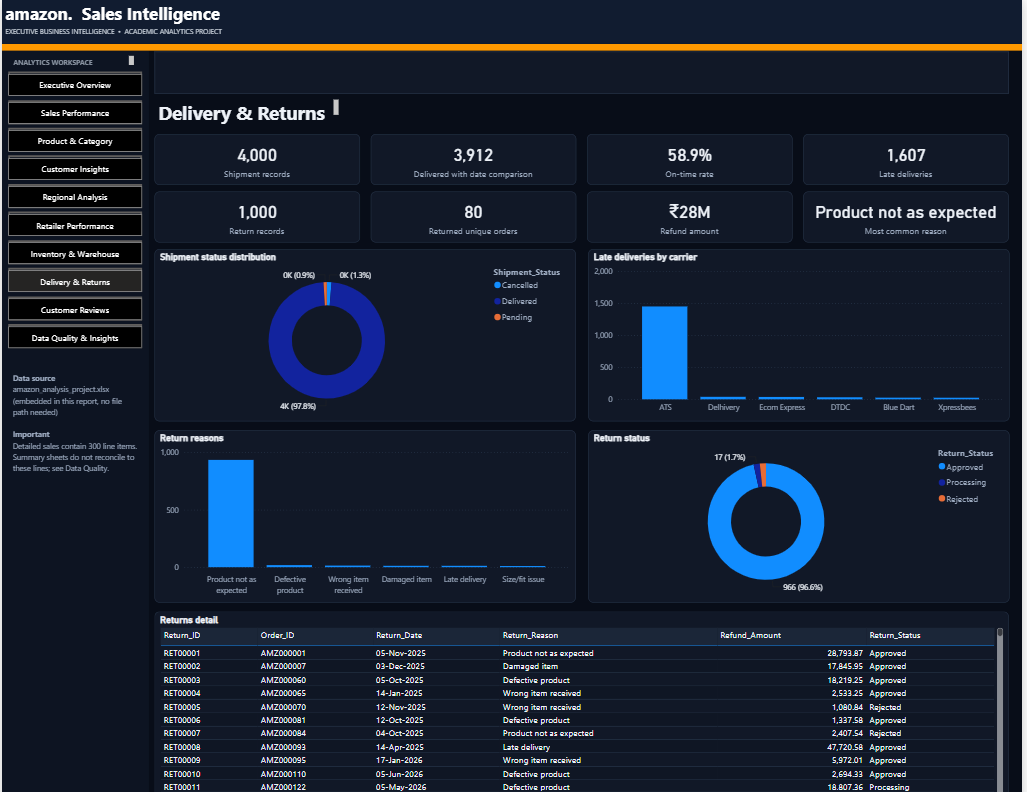

The page's visual inventory and layout, read from the dashboard file:
{"tool":"powerbi","page":{"name":"Delivery & Returns","canvas":[1600,1300],"ordinal":7},"visuals":[{"type":"textbox","box":[0,70,230,1230],"z":0},{"type":"textbox","box":[0,0,1600,70],"z":1000},{"type":"textbox","box":[0,70,1600,4],"z":2000},{"type":"textbox","box":[12,84,200,24],"z":3000},{"type":"actionButton","box":[10,114,210,38],"z":4000},{"type":"actionButton","box":[10,158,210,38],"z":5000},{"type":"actionButton","box":[10,202,210,38],"z":6000},{"type":"actionButton","box":[10,246,210,38],"z":7000},{"type":"actionButton","box":[10,290,210,38],"z":8000},{"type":"actionButton","box":[10,334,210,38],"z":9000},{"type":"actionButton","box":[10,378,210,38],"z":10000},{"type":"actionButton","box":[10,422,210,38],"z":11000},{"type":"actionButton","box":[10,466,210,38],"z":12000},{"type":"actionButton","box":[10,510,210,38],"z":13000},{"type":"textbox","box":[12,580,206,250],"z":14000},{"type":"textbox","box":[240,82,1340,66],"z":15000},{"type":"textbox","box":[239.9,153.5,293.5,52.2],"z":17000},{"type":"card","fields":{"Values":["_Measures.Shipment Records"]},"box":[240,212,322,80],"z":18000},{"type":"card","fields":{"Values":["_Measures.Delivered with Dates"]},"box":[579,212,322,80],"z":19000},{"type":"card","fields":{"Values":["_Measures.On-Time Rate"]},"box":[918,212,322,80],"z":20000},{"type":"card","fields":{"Values":["_Measures.Late Deliveries"]},"box":[1257,212,322,80],"z":21000},{"type":"card","fields":{"Values":["_Measures.Return Records"]},"box":[240,302,322,80],"z":22000},{"type":"card","fields":{"Values":["_Measures.Returned Orders"]},"box":[579,302,322,80],"z":23000},{"type":"card","fields":{"Values":["_Measures.Refund Amount"]},"box":[918,302,322,80],"z":24000},{"type":"card","fields":{"Values":["_Measures.Top Return Reason"]},"box":[1257,302,322,80],"z":25000},{"type":"donutChart","title":"Shipment status distribution","fields":{"Category":["Shipments.Shipment_Status"],"Y":["_Measures.Shipment Records"]},"box":[240,392,661,270],"z":26000},{"type":"clusteredColumnChart","title":"Late deliveries by carrier","fields":{"Category":["Shipments.Carrier"],"Y":["_Measures.Late Deliveries"]},"box":[919,392,661,270],"z":27000},{"type":"clusteredColumnChart","title":"Return reasons","fields":{"Category":["Returns.Return_Reason"],"Y":["_Measures.Return Records"]},"box":[240,676,661,270],"z":28000},{"type":"donutChart","title":"Return status","fields":{"Category":["Returns.Return_Status"],"Y":["_Measures.Return Records"]},"box":[919,676,661,270],"z":29000},{"type":"tableEx","title":"Returns detail","fields":{"Values":["Returns.Return_ID","Returns.Order_ID","Returns.Return_Date","Returns.Return_Reason","Returns.Refund_Amount","Returns.Return_Status"]},"box":[240,960,1340,330],"z":30000},{"type":"pageNavigator","box":[10,118,210,430],"z":31000}]}

Visuals, with their boxes on the page's 1600x1300 design canvas (x1, y1, x2, y2). These are canvas units, not pixel positions in the 1027x792 screenshot, which may show the page scaled, cropped or inside an application window:
textbox: locate(0, 70, 230, 1300)
textbox: locate(0, 0, 1600, 70)
textbox: locate(0, 70, 1600, 74)
textbox: locate(12, 84, 212, 108)
actionButton: locate(10, 114, 220, 152)
actionButton: locate(10, 158, 220, 196)
actionButton: locate(10, 202, 220, 240)
actionButton: locate(10, 246, 220, 284)
actionButton: locate(10, 290, 220, 328)
actionButton: locate(10, 334, 220, 372)
actionButton: locate(10, 378, 220, 416)
actionButton: locate(10, 422, 220, 460)
actionButton: locate(10, 466, 220, 504)
actionButton: locate(10, 510, 220, 548)
textbox: locate(12, 580, 218, 830)
textbox: locate(240, 82, 1580, 148)
textbox: locate(240, 154, 533, 206)
card - _Measures.Shipment Records: locate(240, 212, 562, 292)
card - _Measures.Delivered with Dates: locate(579, 212, 901, 292)
card - _Measures.On-Time Rate: locate(918, 212, 1240, 292)
card - _Measures.Late Deliveries: locate(1257, 212, 1579, 292)
card - _Measures.Return Records: locate(240, 302, 562, 382)
card - _Measures.Returned Orders: locate(579, 302, 901, 382)
card - _Measures.Refund Amount: locate(918, 302, 1240, 382)
card - _Measures.Top Return Reason: locate(1257, 302, 1579, 382)
"Shipment status distribution" donutChart: locate(240, 392, 901, 662)
"Late deliveries by carrier" clusteredColumnChart: locate(919, 392, 1580, 662)
"Return reasons" clusteredColumnChart: locate(240, 676, 901, 946)
"Return status" donutChart: locate(919, 676, 1580, 946)
"Returns detail" tableEx: locate(240, 960, 1580, 1290)
pageNavigator: locate(10, 118, 220, 548)
